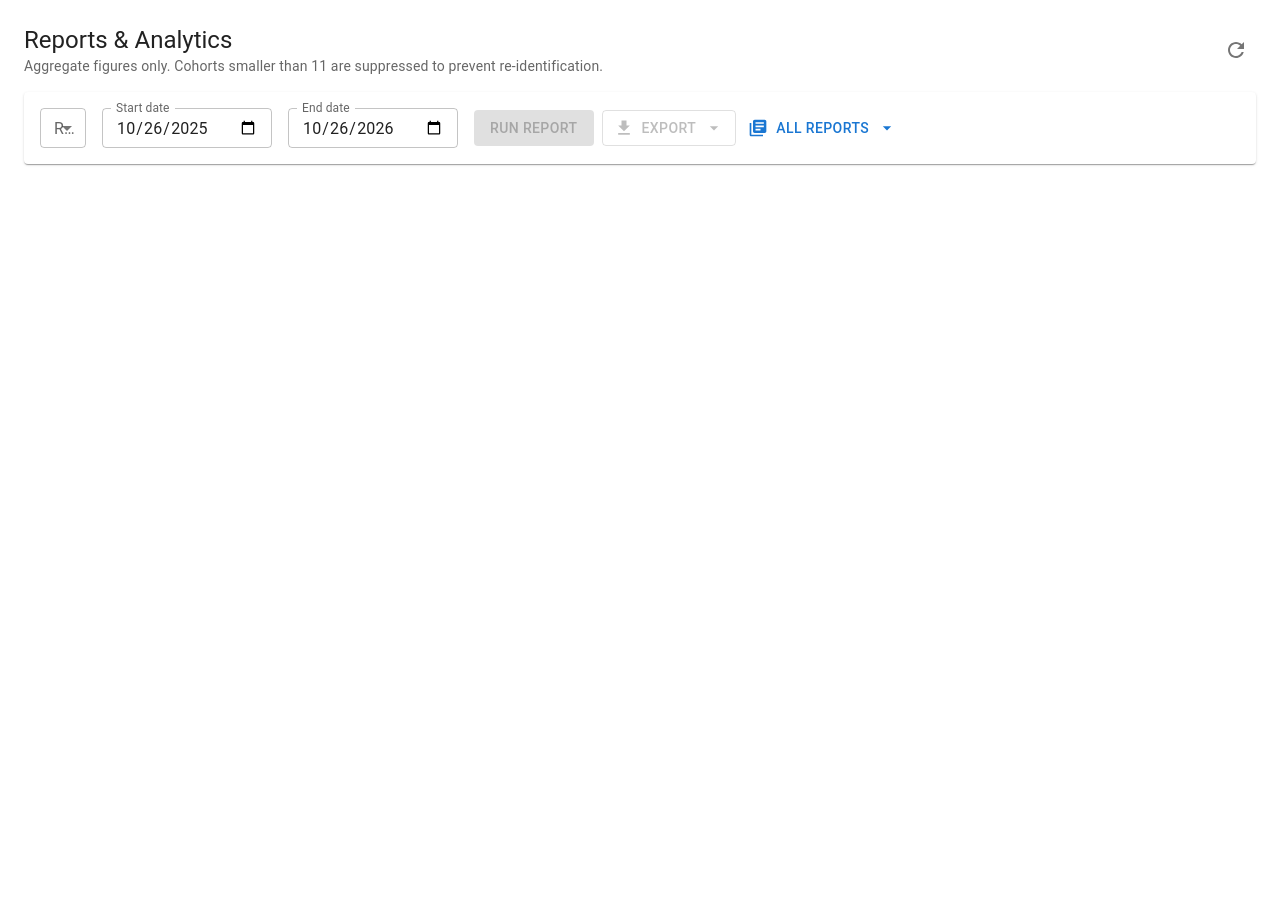
Scenario: AdminAnalytics › runs a report on selection and renders readable headers and suppressed cells
The image size is (1280, 900).
Press the mouse on the dropdown named "Report" at (63, 128), box [40,108,86,148]
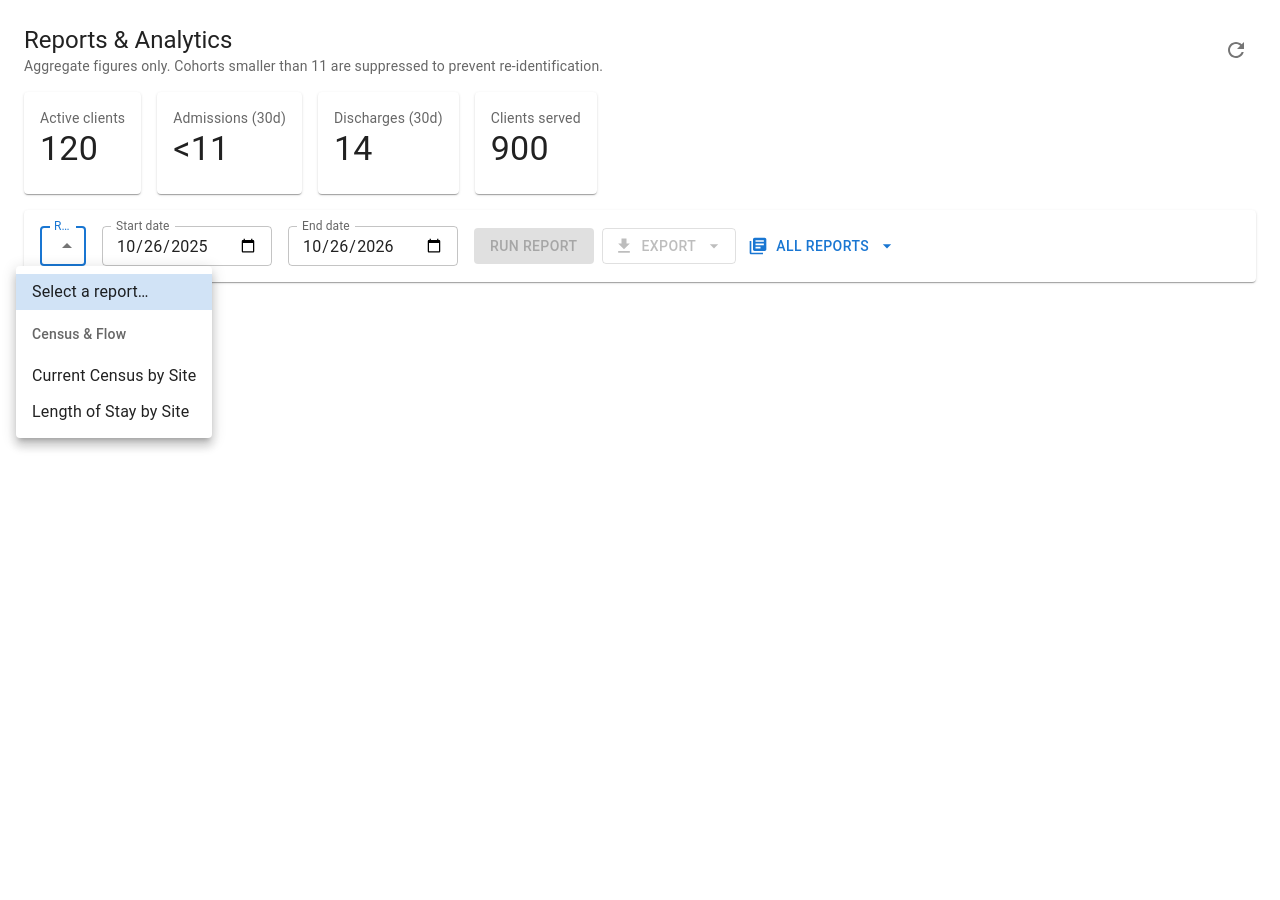
Click the option "Length of Stay by Site" at (111, 412), box [32,402,189,421]
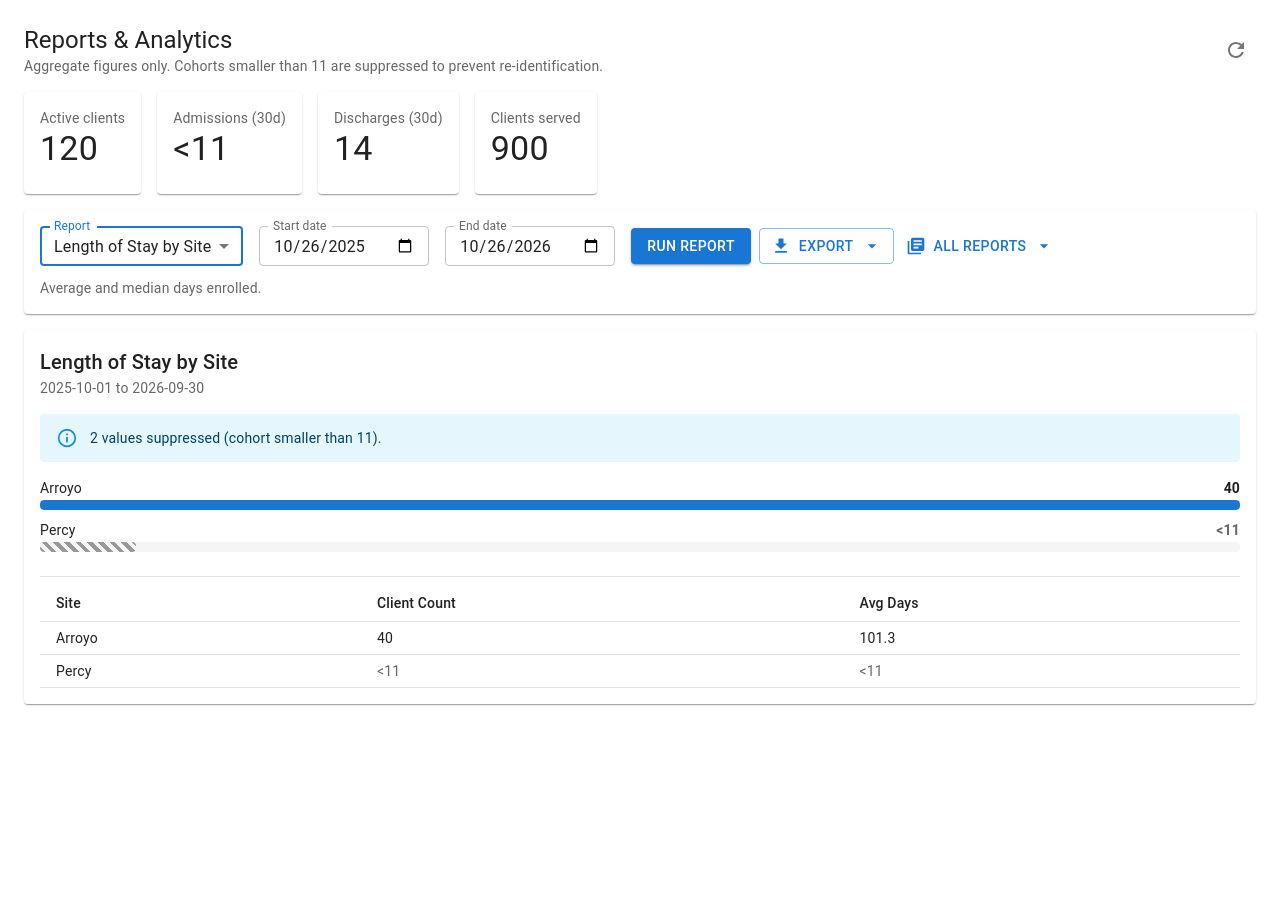
Check: the column heading "Avg Days" is shown, box [844,585,1240,622]
Check: the text "Average and median days enrolled." is shown, box [40,280,262,296]
Check: the text "101.3" is shown, box [844,622,1240,655]
